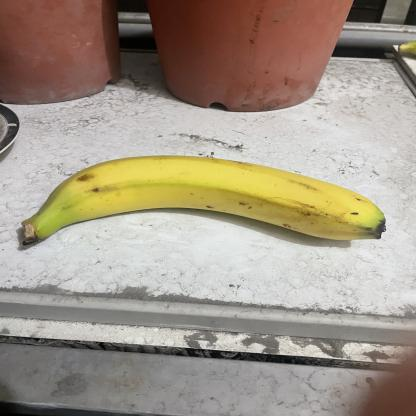banana: (17, 154, 391, 248)
